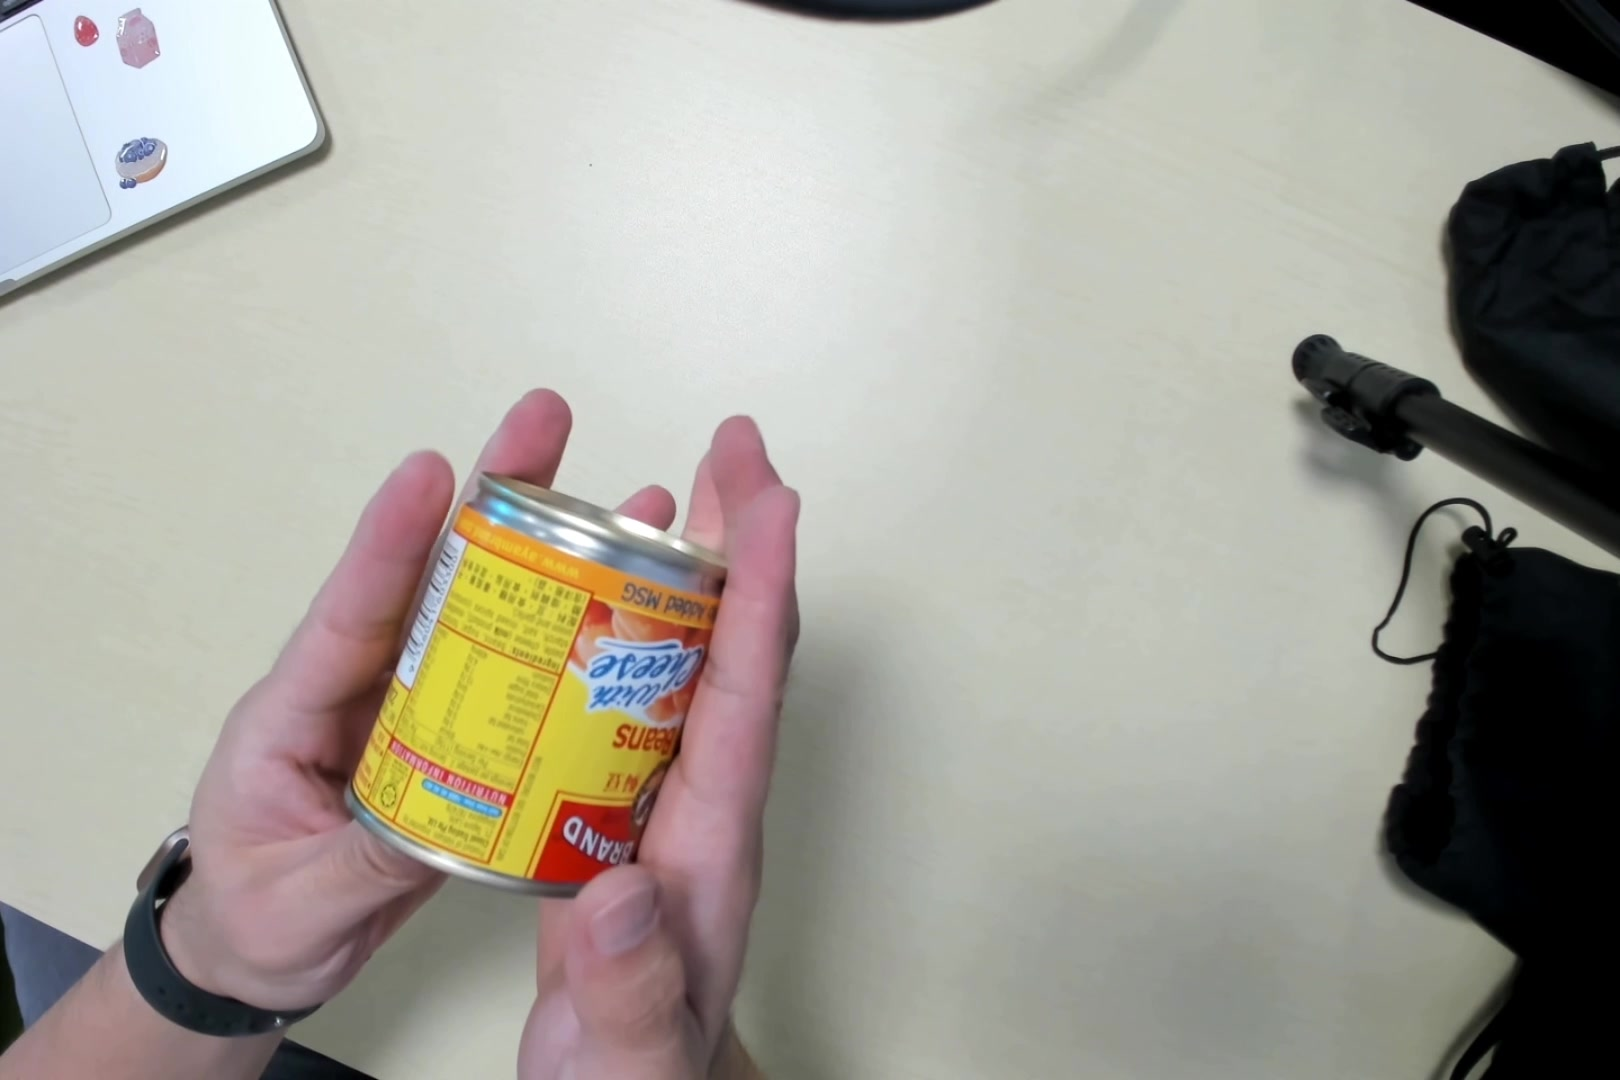CannedBakedBeans_200-299g_NonHalal_NonHealthy: (354, 471, 717, 894)
